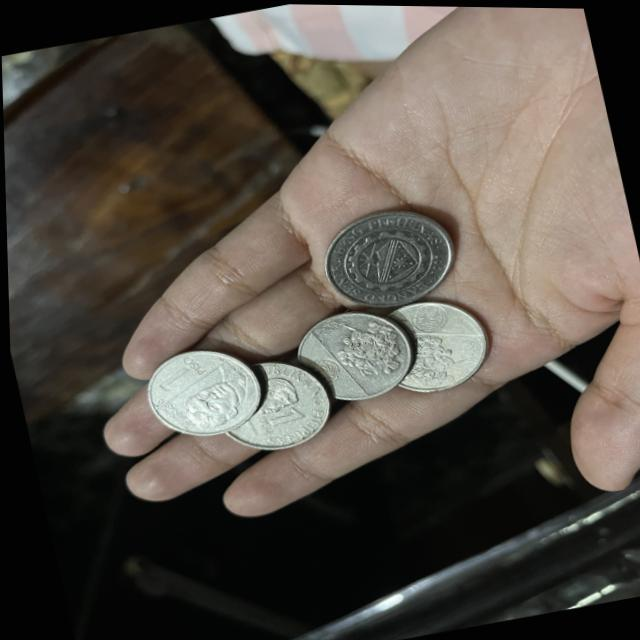1_New_Back: (328, 303, 410, 382), (397, 327, 469, 393)
1_New_Front: (128, 342, 225, 397)
1_Old_Back: (323, 206, 461, 313)
1_Old_Front: (244, 400, 310, 441)
